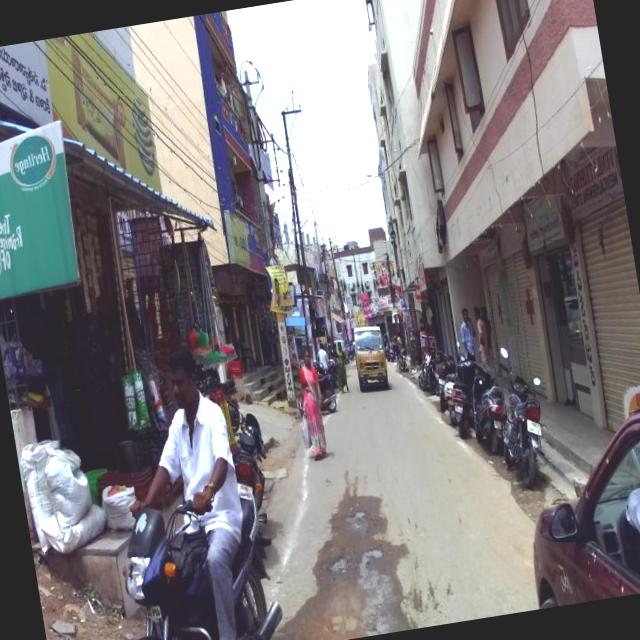pothole: (283, 465, 425, 640)
